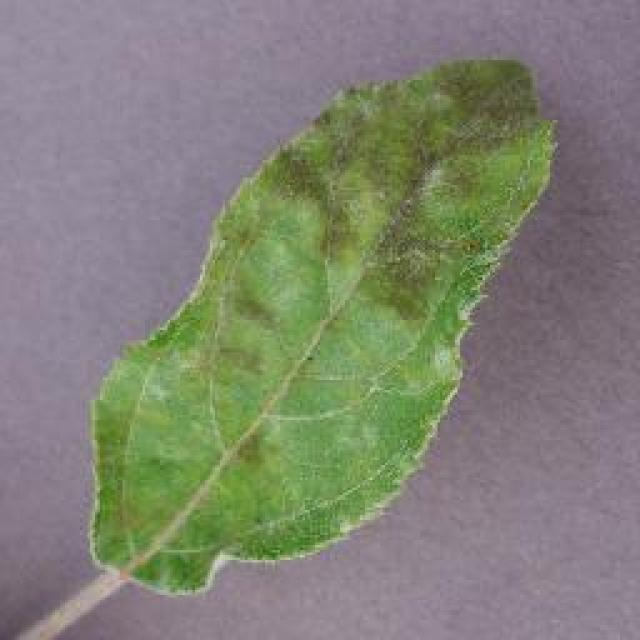apple scab disease: (82, 52, 560, 598)
